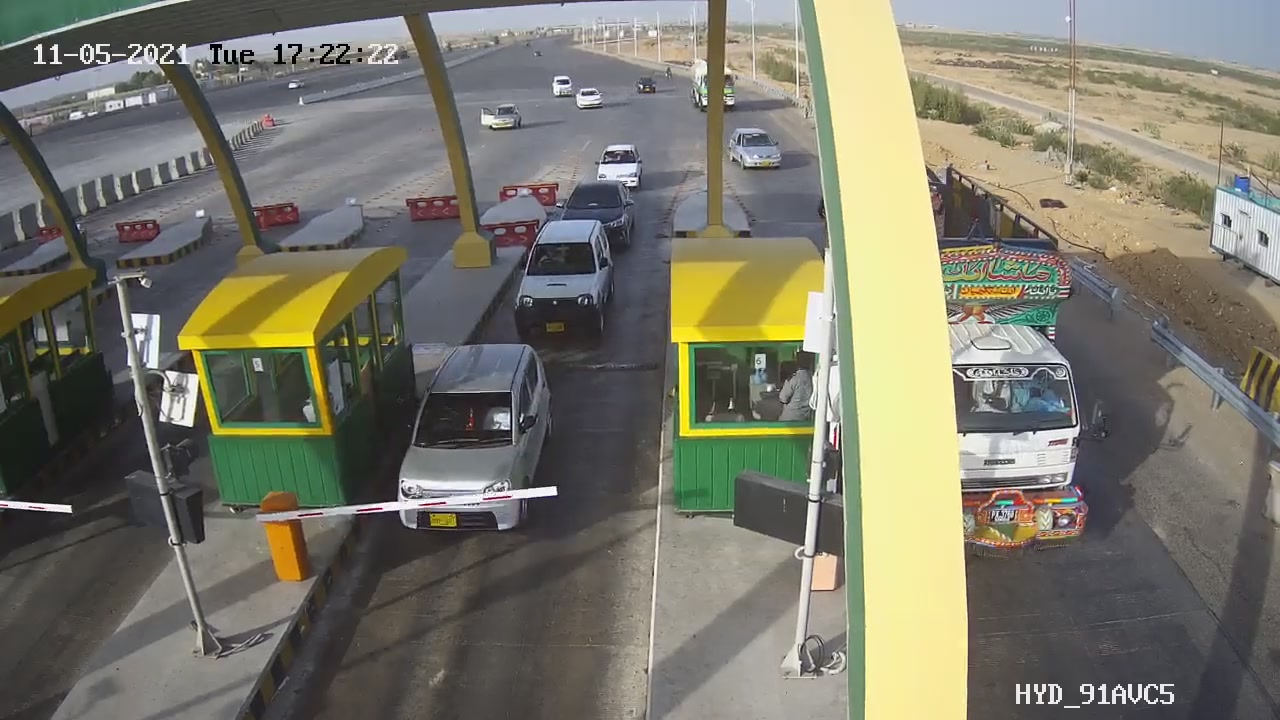F1: (381, 329, 573, 555), (499, 209, 635, 348)
